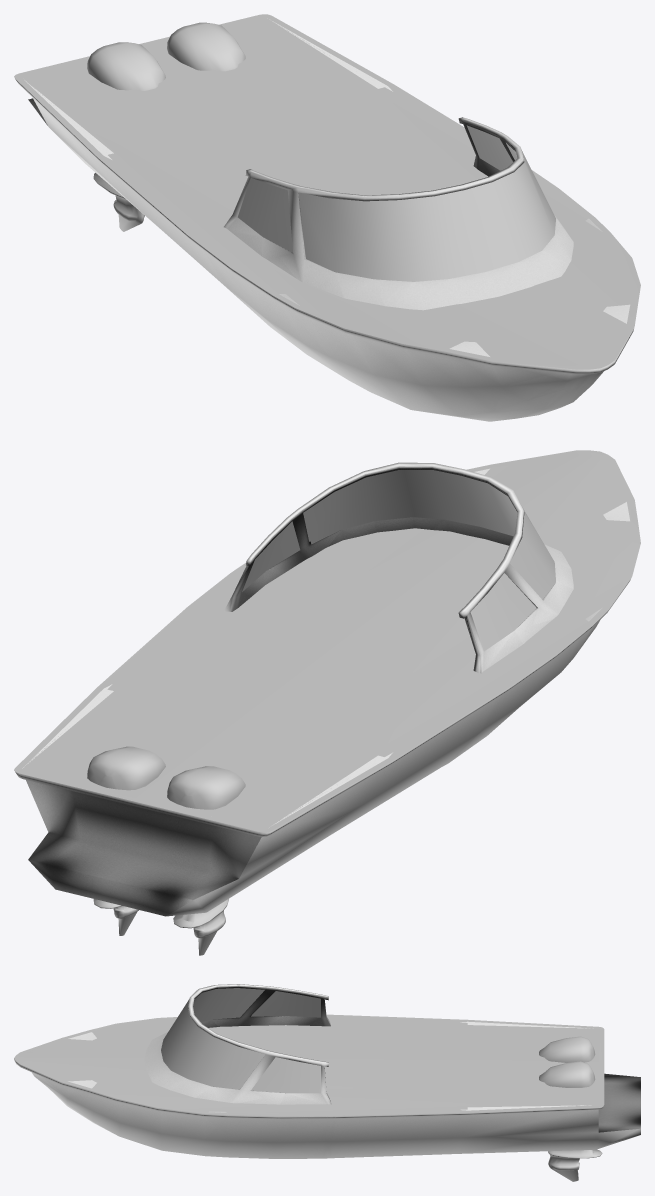
Rendered from ExportedBlenderFBXFile.fbx.
3 views of the same model, one above another, from view 1: azimuth 30°, elevation 25°; view 2: azimuth 150°, elevation 25°; view 3: azimuth 270°, elevation 25° (orthographic). The views are drawn at different scales.
Parts seen in each view (by area): view 1: Mask, Body, Glass, Motor_R, Motor_L; view 2: Mask, Body, Glass, Motor_R, Motor_L; view 3: Mask, Body, Glass, Motor_L, Motor_R.
Boxes of the visible parts, box(x1,y1,x2,y2) form: Mask: box(14, 14, 640, 369); Body: box(15, 18, 634, 421); Glass: box(237, 125, 555, 281); Motor_R: box(87, 42, 165, 231); Motor_L: box(167, 22, 245, 71); Mask: box(14, 450, 640, 832); Body: box(15, 462, 631, 916); Glass: box(242, 470, 555, 651); Motor_R: box(167, 766, 245, 955); Motor_L: box(87, 746, 165, 935); Mask: box(14, 1014, 604, 1116); Body: box(14, 984, 640, 1158); Glass: box(161, 988, 320, 1093); Motor_L: box(539, 1061, 602, 1181); Motor_R: box(539, 1036, 595, 1062).
Size of the model in its own units: 7.23 by 5.4 by 18.73.
